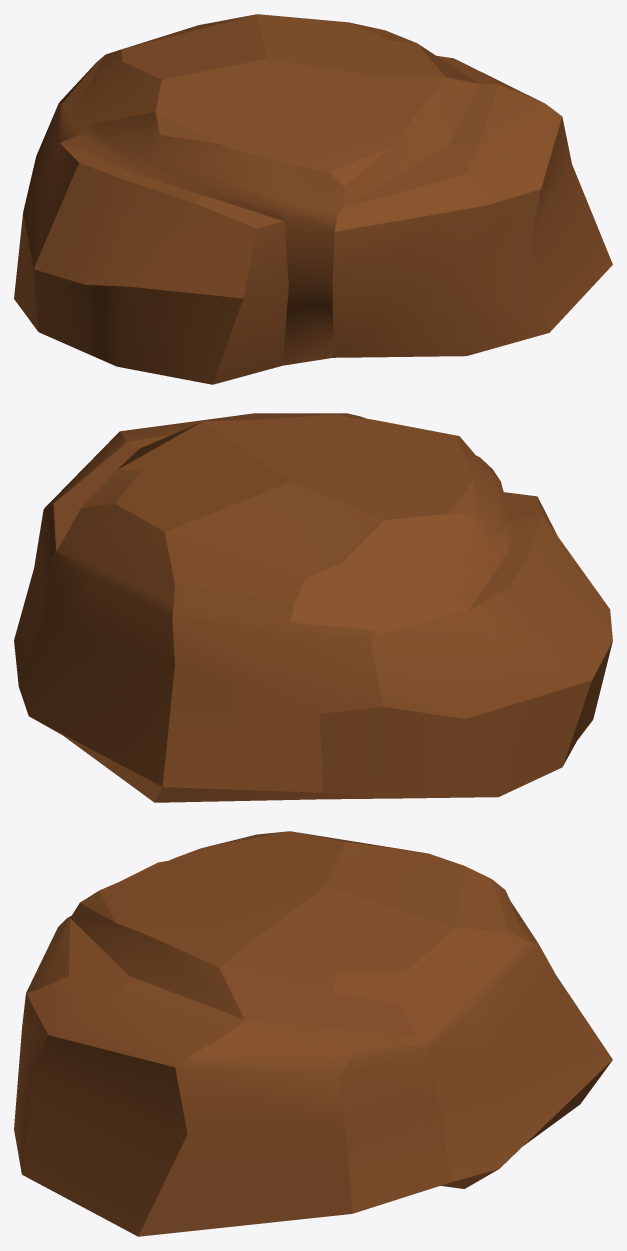
File: Rock_Large_1.gltf
3 renders of one model, top to bottom at view 1: azimuth 30°, elevation 25°; view 2: azimuth 150°, elevation 25°; view 3: azimuth 270°, elevation 25°, orthographic. The views are drawn at different scales.
Visible parts, largest first — view 1: Rock_Large_1; view 2: Rock_Large_1; view 3: Rock_Large_1.
Boxes of the visible parts, box(x1,y1,x2,y2) form: Rock_Large_1: box(14, 14, 612, 384); Rock_Large_1: box(14, 413, 612, 802); Rock_Large_1: box(14, 831, 612, 1236).
Size of the model in its own units: 7.67 by 3.29 by 7.33.
Materials: 1 (1 with a texture image).
